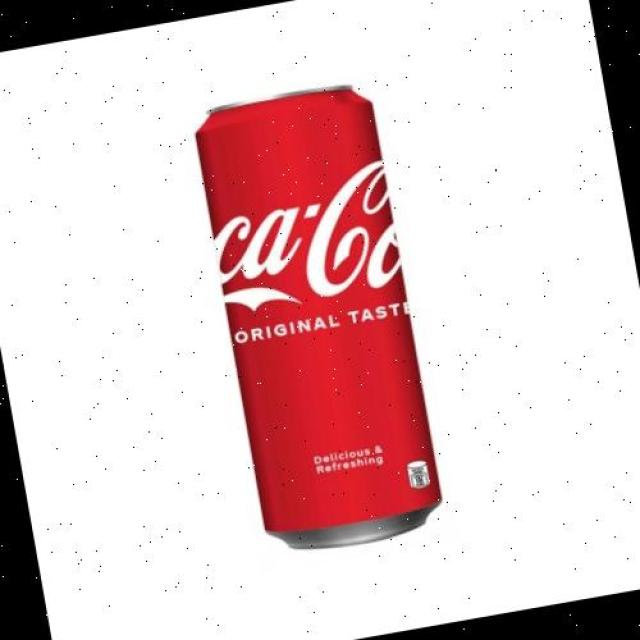coca-cola: (182, 70, 454, 568)
